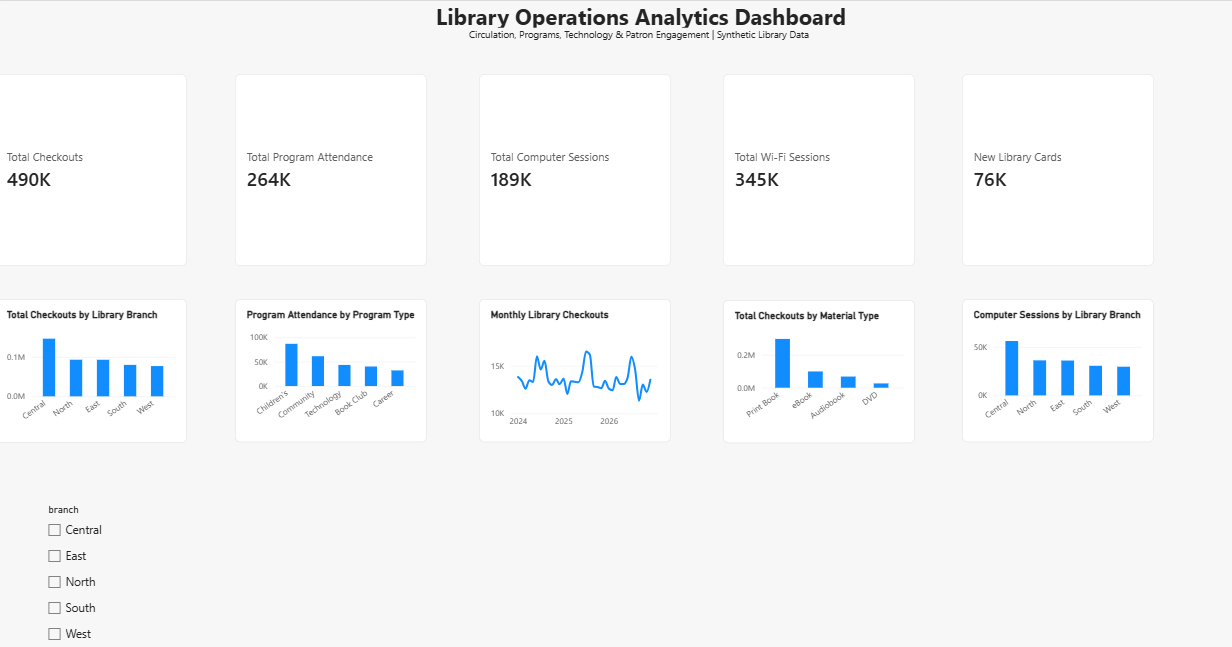

The dashboard page shown, as its layout file describes it:
{"tool":"powerbi","page":{"name":"Page 1","canvas":[1920,1080],"ordinal":0},"visuals":[{"type":"textbox","box":[643.4,0,1232.8,39.4],"z":0},{"type":"textbox","box":[691.6,39.4,589.4,33.6],"z":1},{"type":"cardVisual","fields":{"Data":["Sum(Synthetic_Library_Operations_Analytics.checkouts)"]},"box":[0,106.5,280,280],"z":2},{"type":"cardVisual","fields":{"Data":["Sum(Synthetic_Library_Operations_Analytics.computer_sessions)"]},"box":[706.1,106.5,280,280],"z":3},{"type":"cardVisual","fields":{"Data":["Sum(Synthetic_Library_Operations_Analytics.program_attendance)"]},"box":[350.2,106.5,280,280],"z":4},{"type":"cardVisual","fields":{"Data":["Sum(Synthetic_Library_Operations_Analytics.wifi_sessions)"]},"box":[1062.1,106.5,280,280],"z":5},{"type":"clusteredColumnChart","title":"Total Checkouts by Library Branch","fields":{"Category":["Synthetic_Library_Operations_Analytics.branch"],"Y":["Sum(Synthetic_Library_Operations_Analytics.checkouts)"]},"box":[0,434.8,280,210],"z":6},{"type":"clusteredColumnChart","title":"Program Attendance by Program Type","fields":{"Category":["Synthetic_Library_Operations_Analytics.program_type"],"Y":["Sum(Synthetic_Library_Operations_Analytics.program_attendance)"]},"box":[350.2,434.8,280,209],"z":7},{"type":"lineChart","title":"Monthly Library Checkouts","fields":{"Category":["Synthetic_Library_Operations_Analytics.month"],"Y":["Sum(Synthetic_Library_Operations_Analytics.checkouts)"]},"box":[706.1,434.8,280,209],"z":8},{"type":"clusteredColumnChart","title":"Total Checkouts by Material Type","fields":{"Category":["Synthetic_Library_Operations_Analytics.material_type"],"Y":["Sum(Synthetic_Library_Operations_Analytics.checkouts)"]},"box":[1062.1,436.2,280,209],"z":9},{"type":"clusteredColumnChart","title":"Computer Sessions by Library Branch","fields":{"Category":["Synthetic_Library_Operations_Analytics.branch"],"Y":["Sum(Synthetic_Library_Operations_Analytics.computer_sessions)"]},"box":[1410.8,434.8,280.1,208.6],"z":10},{"type":"slicer","fields":{"Values":["Synthetic_Library_Operations_Analytics.branch"]},"box":[70,733.9,280.1,213],"z":11},{"type":"cardVisual","fields":{"Data":["Sum(Synthetic_Library_Operations_Analytics.new_library_cards)"]},"box":[1410.8,106.5,280,280],"z":12}]}

Visuals, with their boxes on the page's 1920x1080 design canvas (x1, y1, x2, y2). These are canvas units, not pixel positions in the 1232x647 screenshot, which may show the page scaled, cropped or inside an application window:
textbox: locate(643, 0, 1876, 39)
textbox: locate(692, 39, 1281, 73)
cardVisual - Sum(Synthetic_Library_Operations_Analytics.checkouts): locate(0, 106, 280, 386)
cardVisual - Sum(Synthetic_Library_Operations_Analytics.computer_sessions): locate(706, 106, 986, 386)
cardVisual - Sum(Synthetic_Library_Operations_Analytics.program_attendance): locate(350, 106, 630, 386)
cardVisual - Sum(Synthetic_Library_Operations_Analytics.wifi_sessions): locate(1062, 106, 1342, 386)
"Total Checkouts by Library Branch" clusteredColumnChart: locate(0, 435, 280, 645)
"Program Attendance by Program Type" clusteredColumnChart: locate(350, 435, 630, 644)
"Monthly Library Checkouts" lineChart: locate(706, 435, 986, 644)
"Total Checkouts by Material Type" clusteredColumnChart: locate(1062, 436, 1342, 645)
"Computer Sessions by Library Branch" clusteredColumnChart: locate(1411, 435, 1691, 643)
slicer - Synthetic_Library_Operations_Analytics.branch: locate(70, 734, 350, 947)
cardVisual - Sum(Synthetic_Library_Operations_Analytics.new_library_cards): locate(1411, 106, 1691, 386)
